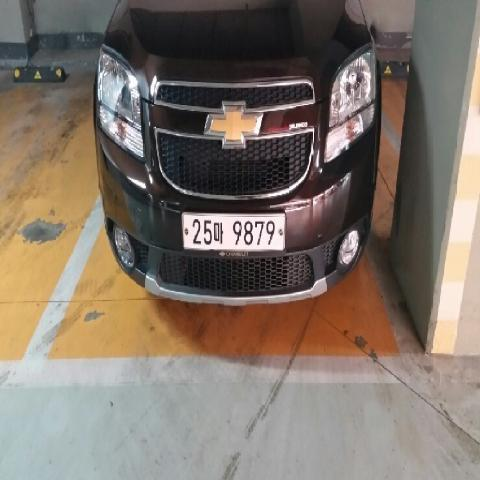LP: (179, 198, 288, 260)
